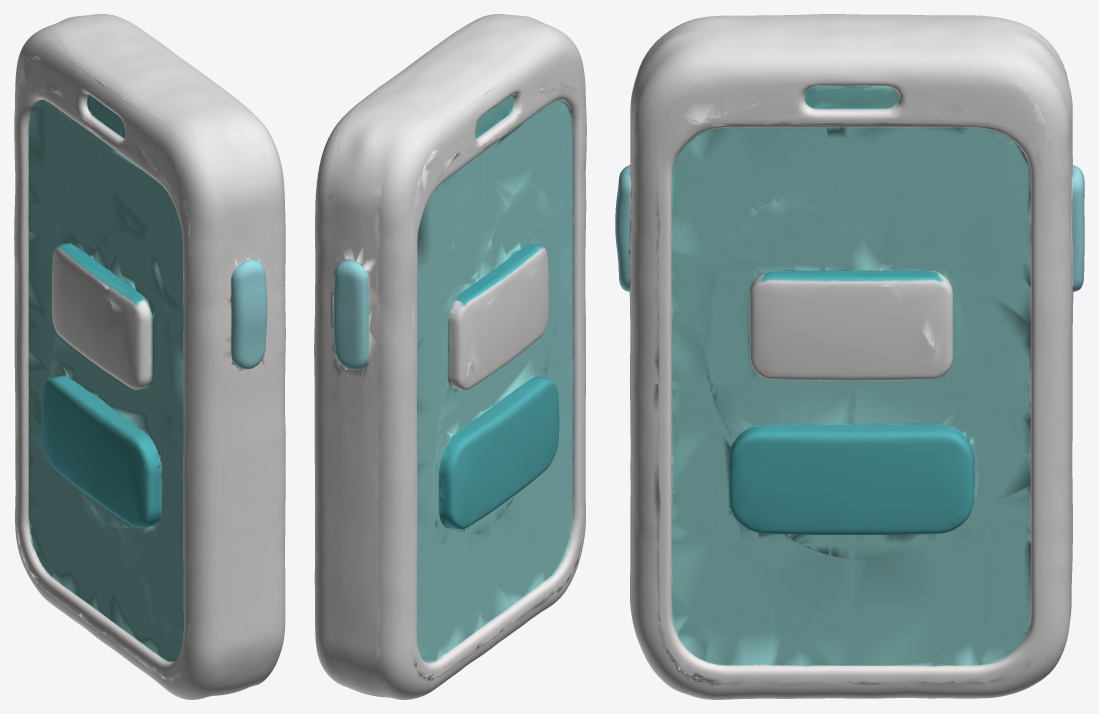
File: step-1.glb
3 renders of one model, left to right at view 1: azimuth 30°, elevation 25°; view 2: azimuth 150°, elevation 25°; view 3: azimuth 270°, elevation 25°, orthographic. The views are drawn at different scales.
Parts seen in each view (by area): view 1: tripo_node_643fbd84-e541-4c52-ac62-edbc6a288c97; view 2: tripo_node_643fbd84-e541-4c52-ac62-edbc6a288c97; view 3: tripo_node_643fbd84-e541-4c52-ac62-edbc6a288c97.
Part boxes in pixels (left/top/right/bottom): tripo_node_643fbd84-e541-4c52-ac62-edbc6a288c97: left=14, top=14, right=285, bottom=699; tripo_node_643fbd84-e541-4c52-ac62-edbc6a288c97: left=314, top=14, right=586, bottom=699; tripo_node_643fbd84-e541-4c52-ac62-edbc6a288c97: left=615, top=14, right=1084, bottom=699.
Size of the model in its own units: 0.0333 by 0.15 by 0.0971.
Materials: 1 (1 with a texture image).
